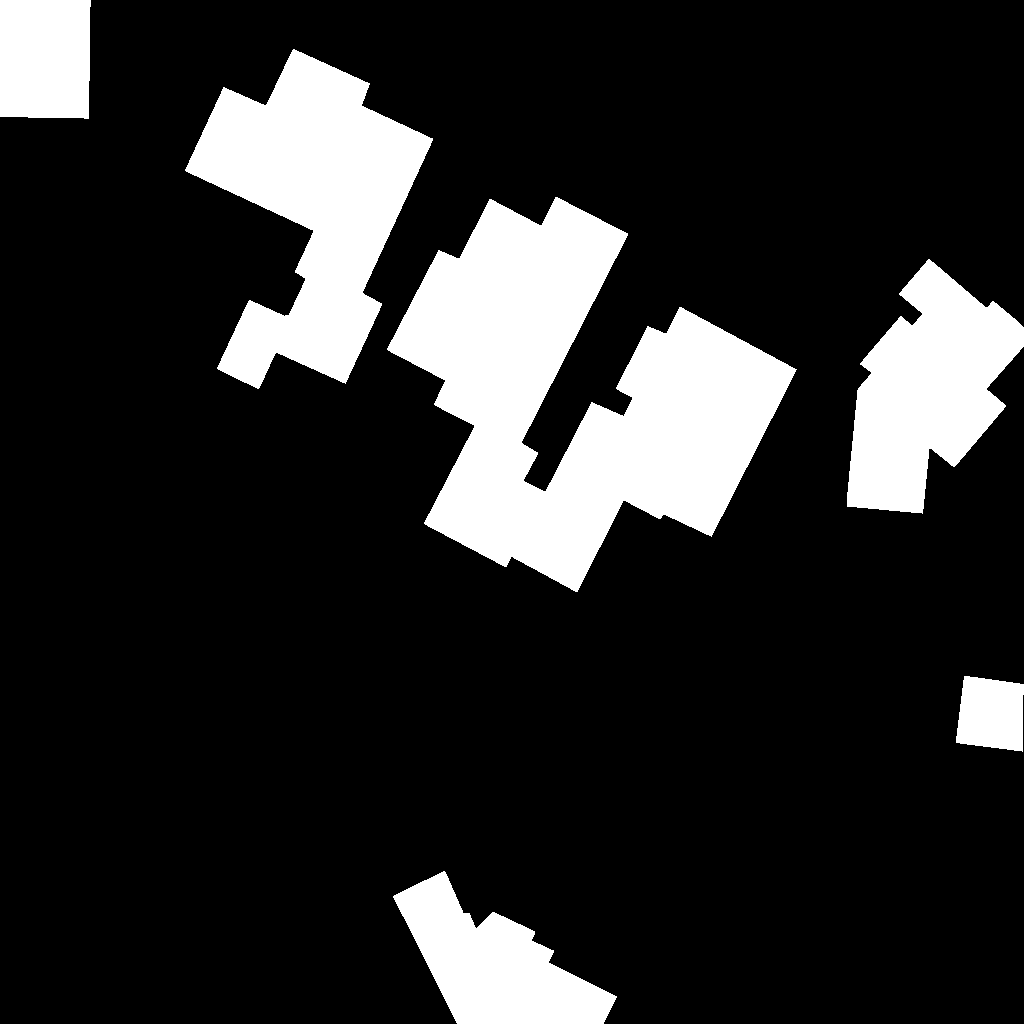building: (387, 197, 629, 568), (185, 49, 434, 390), (512, 307, 798, 593), (847, 259, 1024, 514), (393, 871, 618, 1024), (0, 0, 91, 119), (956, 676, 1024, 752)
